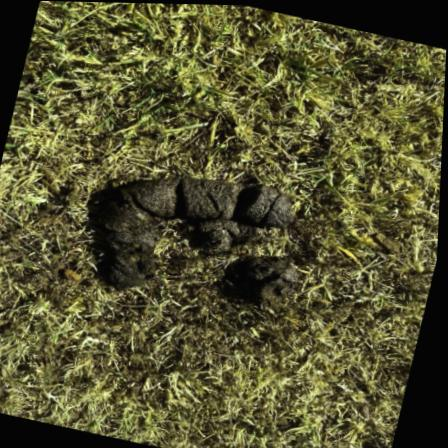dog-poop: (72, 147, 329, 347)
